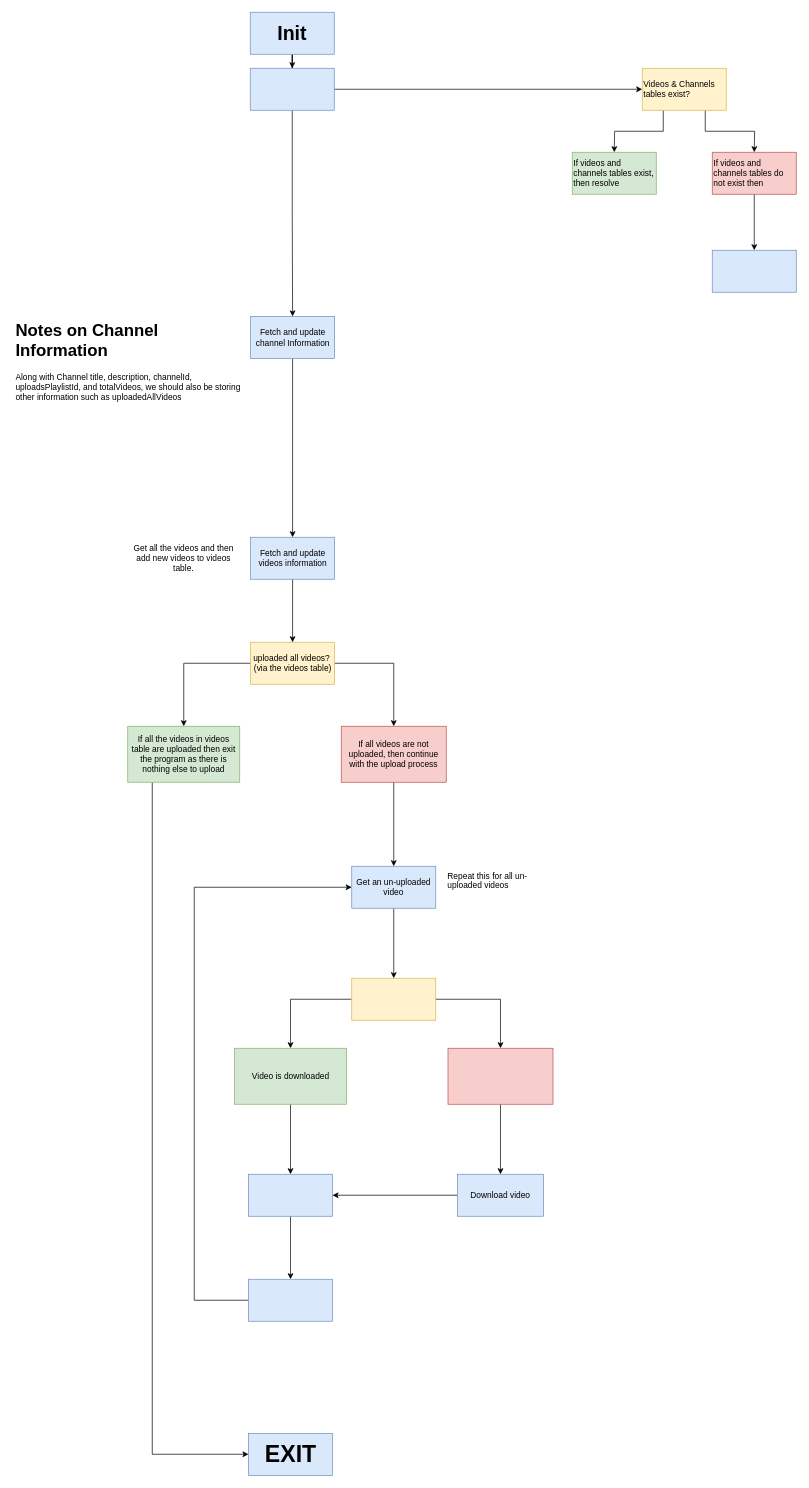
Some shapes in this 809 by 1488 pixel diagram are drawn without their labels. The box of each missing label's shape, as (x1, y1, x2, y2) in pixels:
Create videos and channels tables, then resolve: (712, 250, 796, 292)
Prepare database: (250, 68, 334, 110)
Update uploaded information in videos table: (248, 1279, 332, 1321)
Upload video: (248, 1174, 332, 1216)
video is downloaded?: (351, 978, 436, 1020)
video is not downloaded: (447, 1048, 553, 1104)
